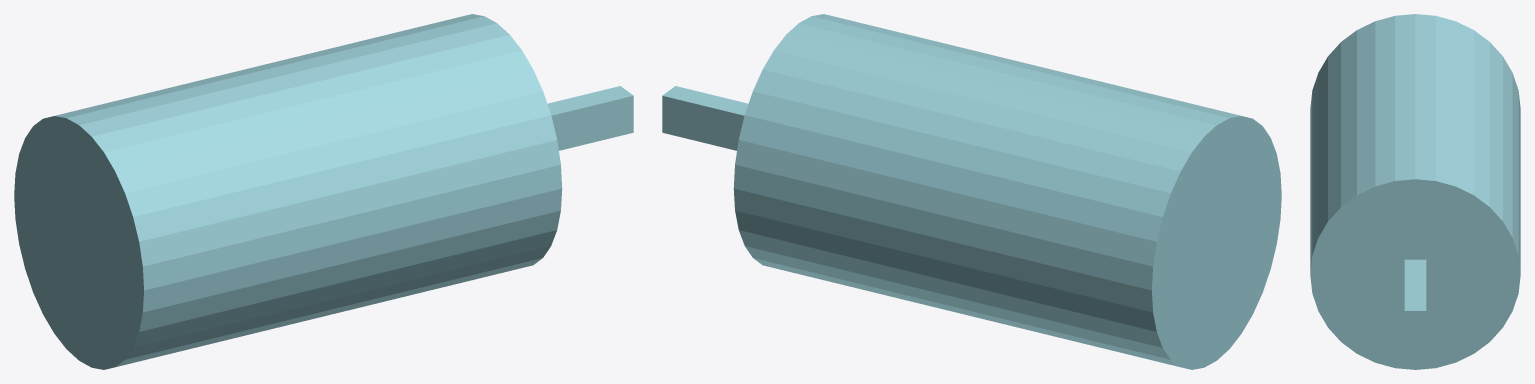
Rendered from cylinder_marker_v4014.obj.
3 views of the same model, side by side, from view 1: azimuth 30°, elevation 25°; view 2: azimuth 150°, elevation 25°; view 3: azimuth 270°, elevation 25° (orthographic). The views are drawn at different scales.
Size of the model in its own units: 0.1249 by 0.0513 by 0.0513.
Materials: 1 (1 with a texture image).
